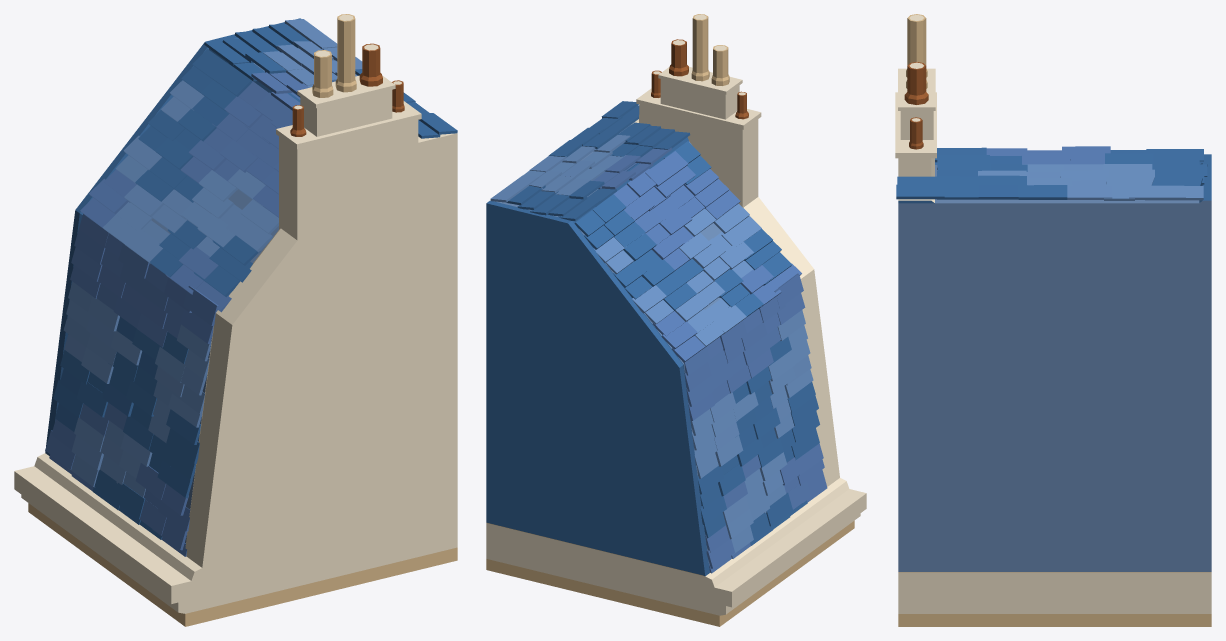
File: RoofEdge_A_2.fbx
3 renders of one model, left to right at view 1: azimuth 30°, elevation 25°; view 2: azimuth 150°, elevation 25°; view 3: azimuth 270°, elevation 25°, orthographic. The views are drawn at different scales.
Parts seen in each view (by area): view 1: RoofEdge_A_2; view 2: RoofEdge_A_2; view 3: RoofEdge_A_2.
Part boxes in pixels (left/top/right/bottom): RoofEdge_A_2: left=14, top=14, right=457, bottom=626; RoofEdge_A_2: left=486, top=14, right=866, bottom=626; RoofEdge_A_2: left=895, top=14, right=1211, bottom=626.
Size of the model in its own units: 210 by 202 by 394.
